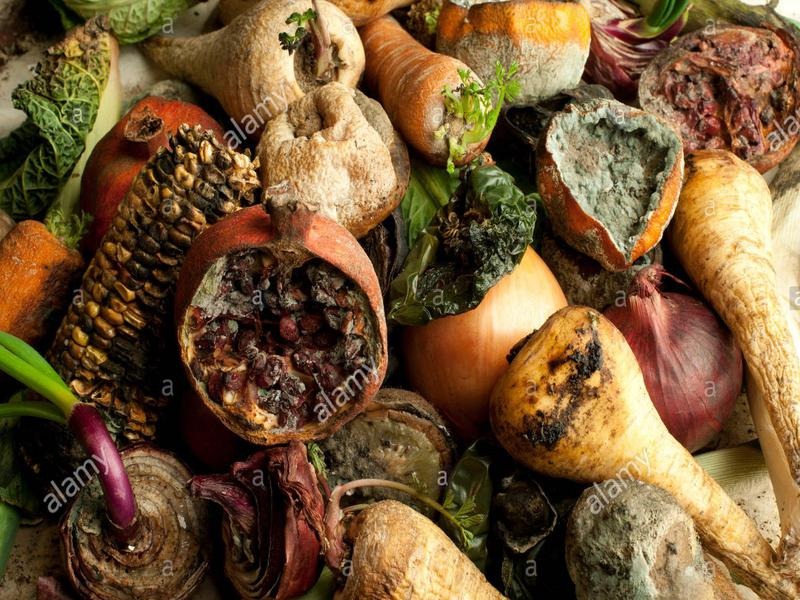vegetation: (3, 1, 799, 600)
